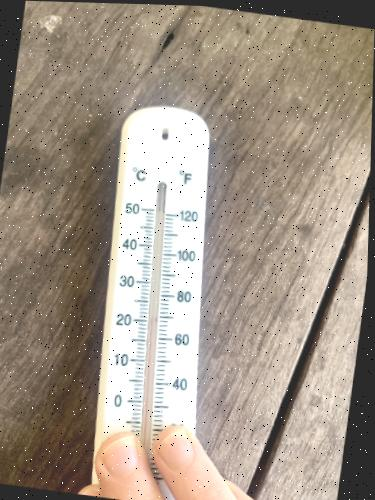thermo: (89, 106, 230, 500)
